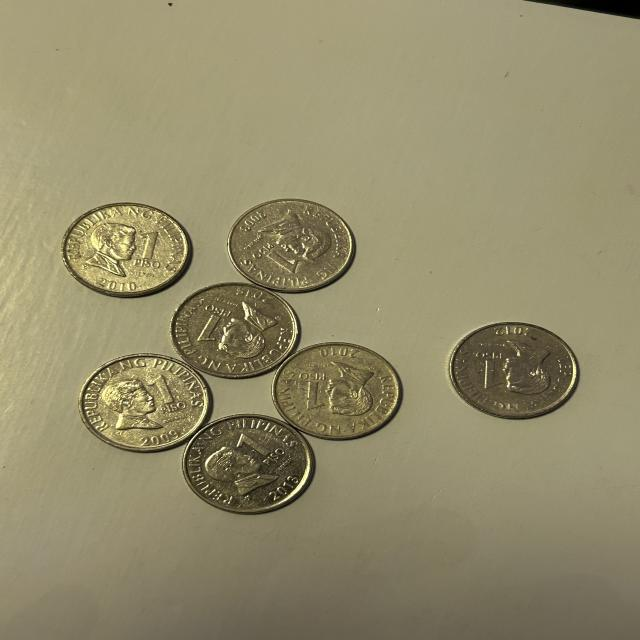1_Old_Front: (231, 428, 290, 478), (252, 239, 306, 283), (142, 375, 193, 420), (129, 225, 165, 278), (476, 350, 512, 398), (297, 370, 330, 414), (197, 300, 226, 348)
